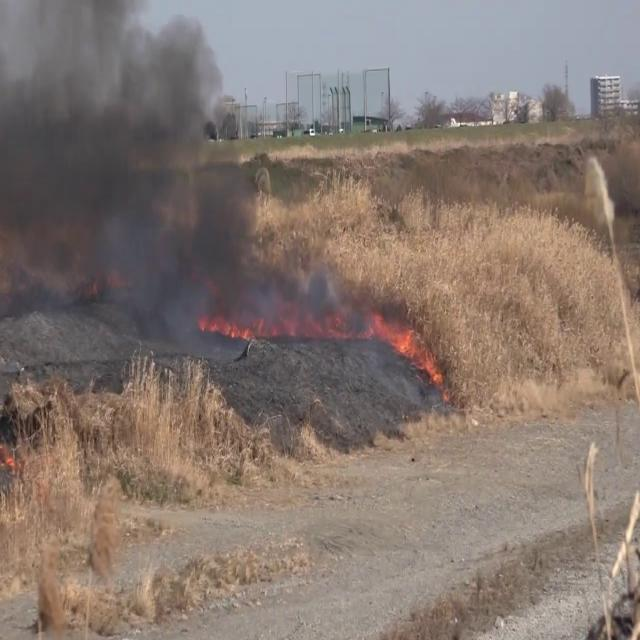Fire: (365, 311, 443, 385)
Smoke: (0, 0, 314, 400)
